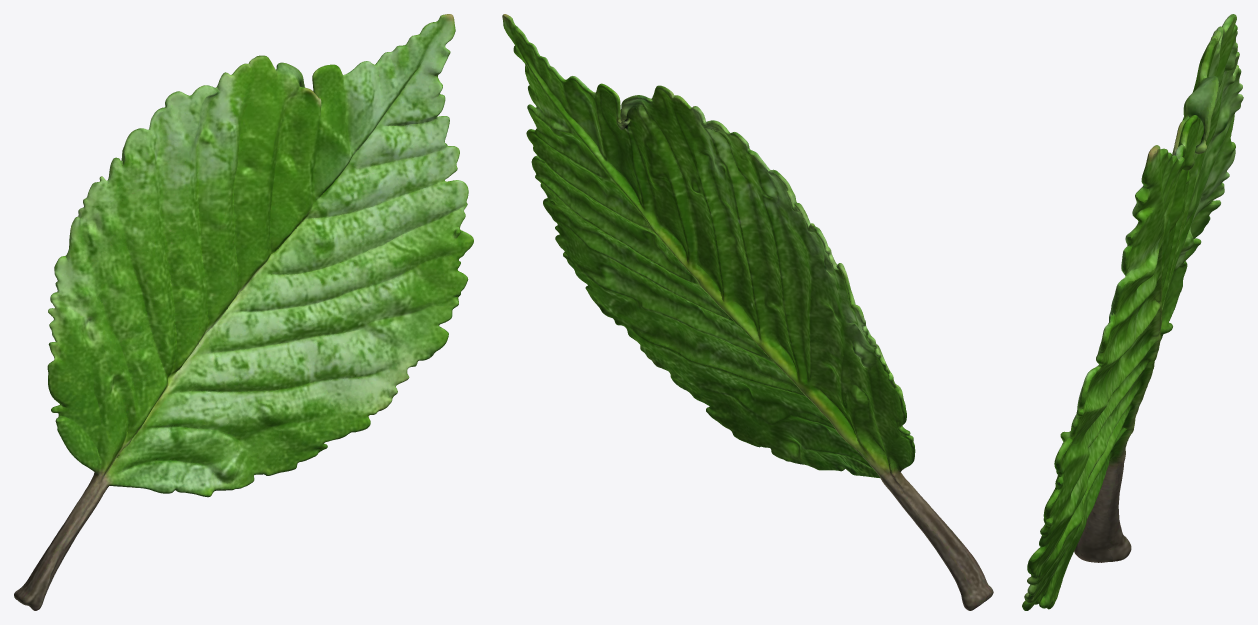
File: broadleaf-v18.glb
The picture shows the model from 3 angles, left to right: view 1: azimuth 30°, elevation 25°; view 2: azimuth 150°, elevation 25°; view 3: azimuth 270°, elevation 25°; orthographic projection. The views are drawn at different scales.
Parts seen in each view (by area): view 1: world; view 2: world; view 3: world.
Part boxes in pixels (box(x1,y1,x2,y2)): world: box(14, 14, 473, 610); world: box(502, 14, 993, 610); world: box(1022, 14, 1243, 610).
Bounding box in the file's own units: 0.12 × 0.1203 × 0.0325.
1 material, 1 textured.
